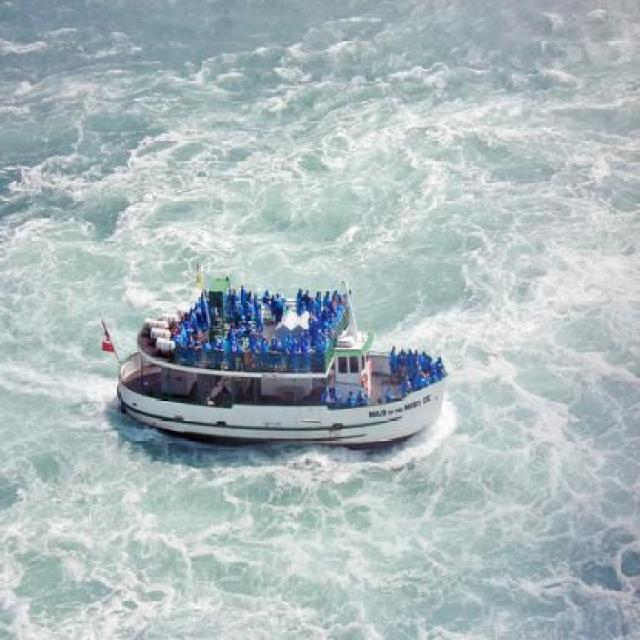ship: (102, 248, 449, 447)
